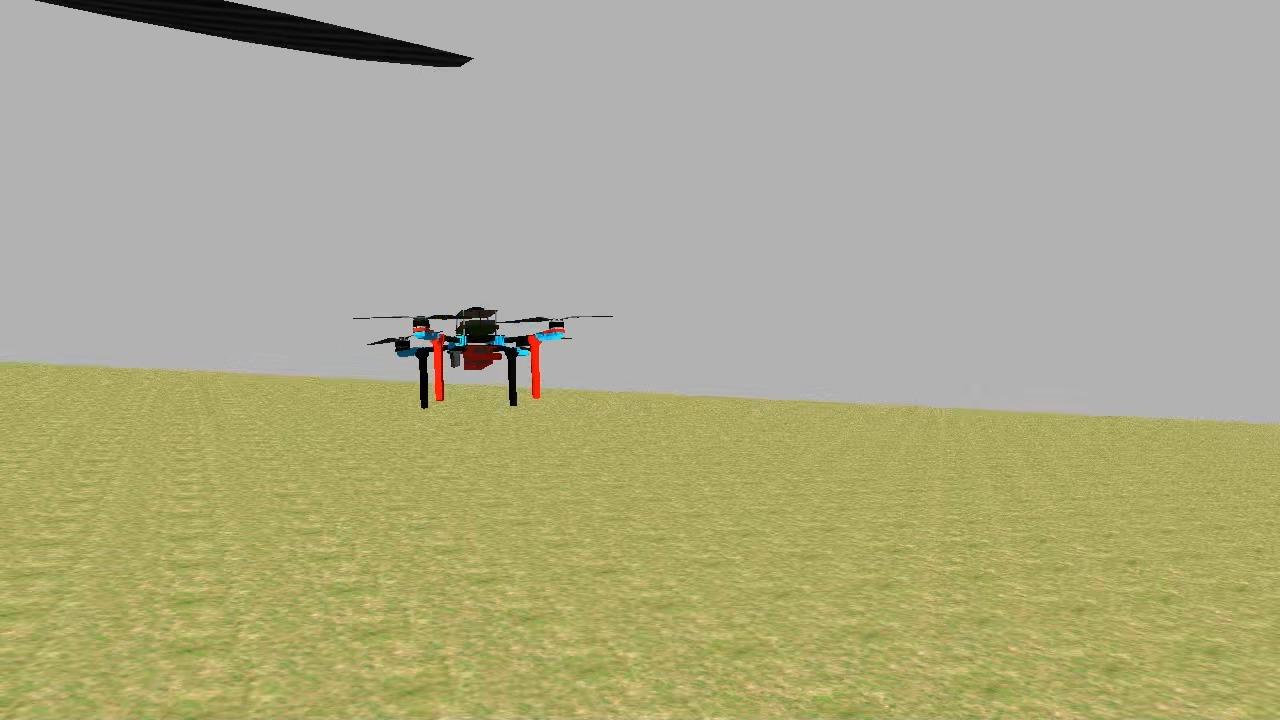UAV: (384, 302, 576, 410)
